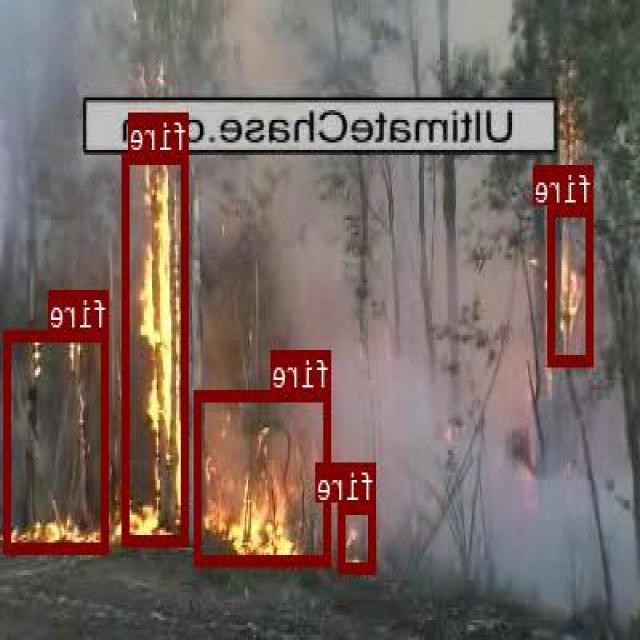fire: (124, 152, 190, 544), (196, 388, 333, 563), (6, 329, 110, 552), (549, 205, 594, 362), (340, 502, 376, 572)
